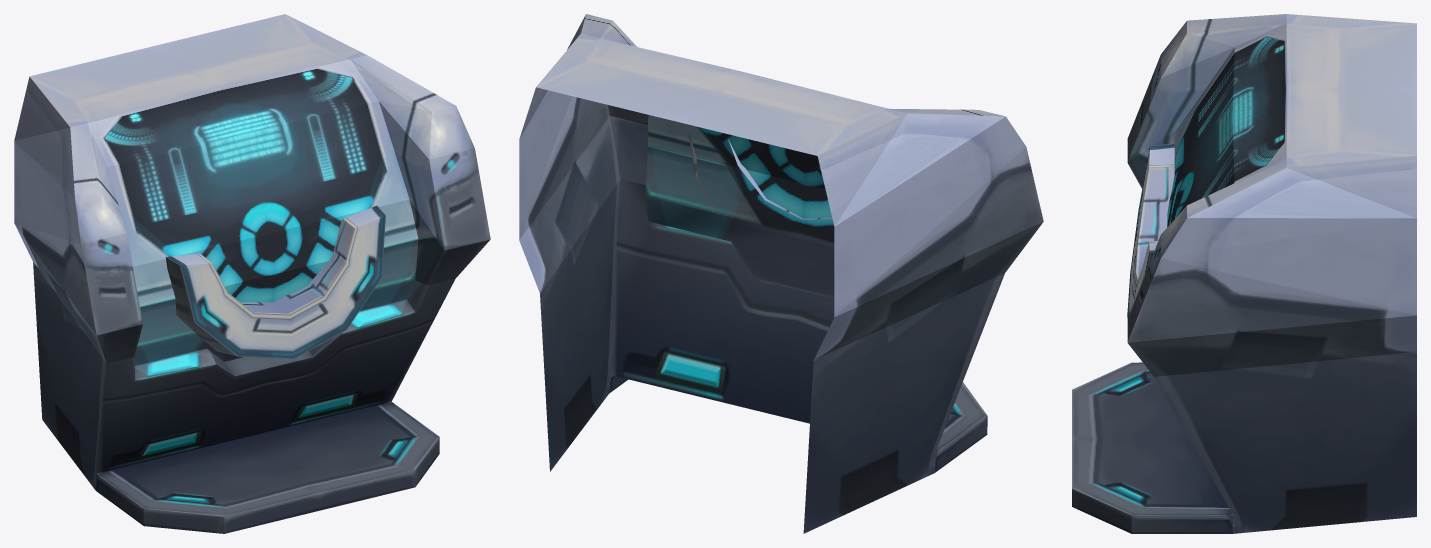
File: jisuanji.FBX
The picture shows the model from 3 angles, left to right: view 1: azimuth 30°, elevation 25°; view 2: azimuth 150°, elevation 25°; view 3: azimuth 270°, elevation 25°; orthographic projection. The views are drawn at different scales.
Parts seen in each view (by area): view 1: Box004; view 2: Box004; view 3: Box004.
Part boxes in pixels (box(x1,y1,x2,y2)): Box004: box(14, 14, 490, 533); Box004: box(519, 14, 1043, 533); Box004: box(1072, 14, 1416, 533).
Size of the model in its own units: 128 by 107 by 91.33.
